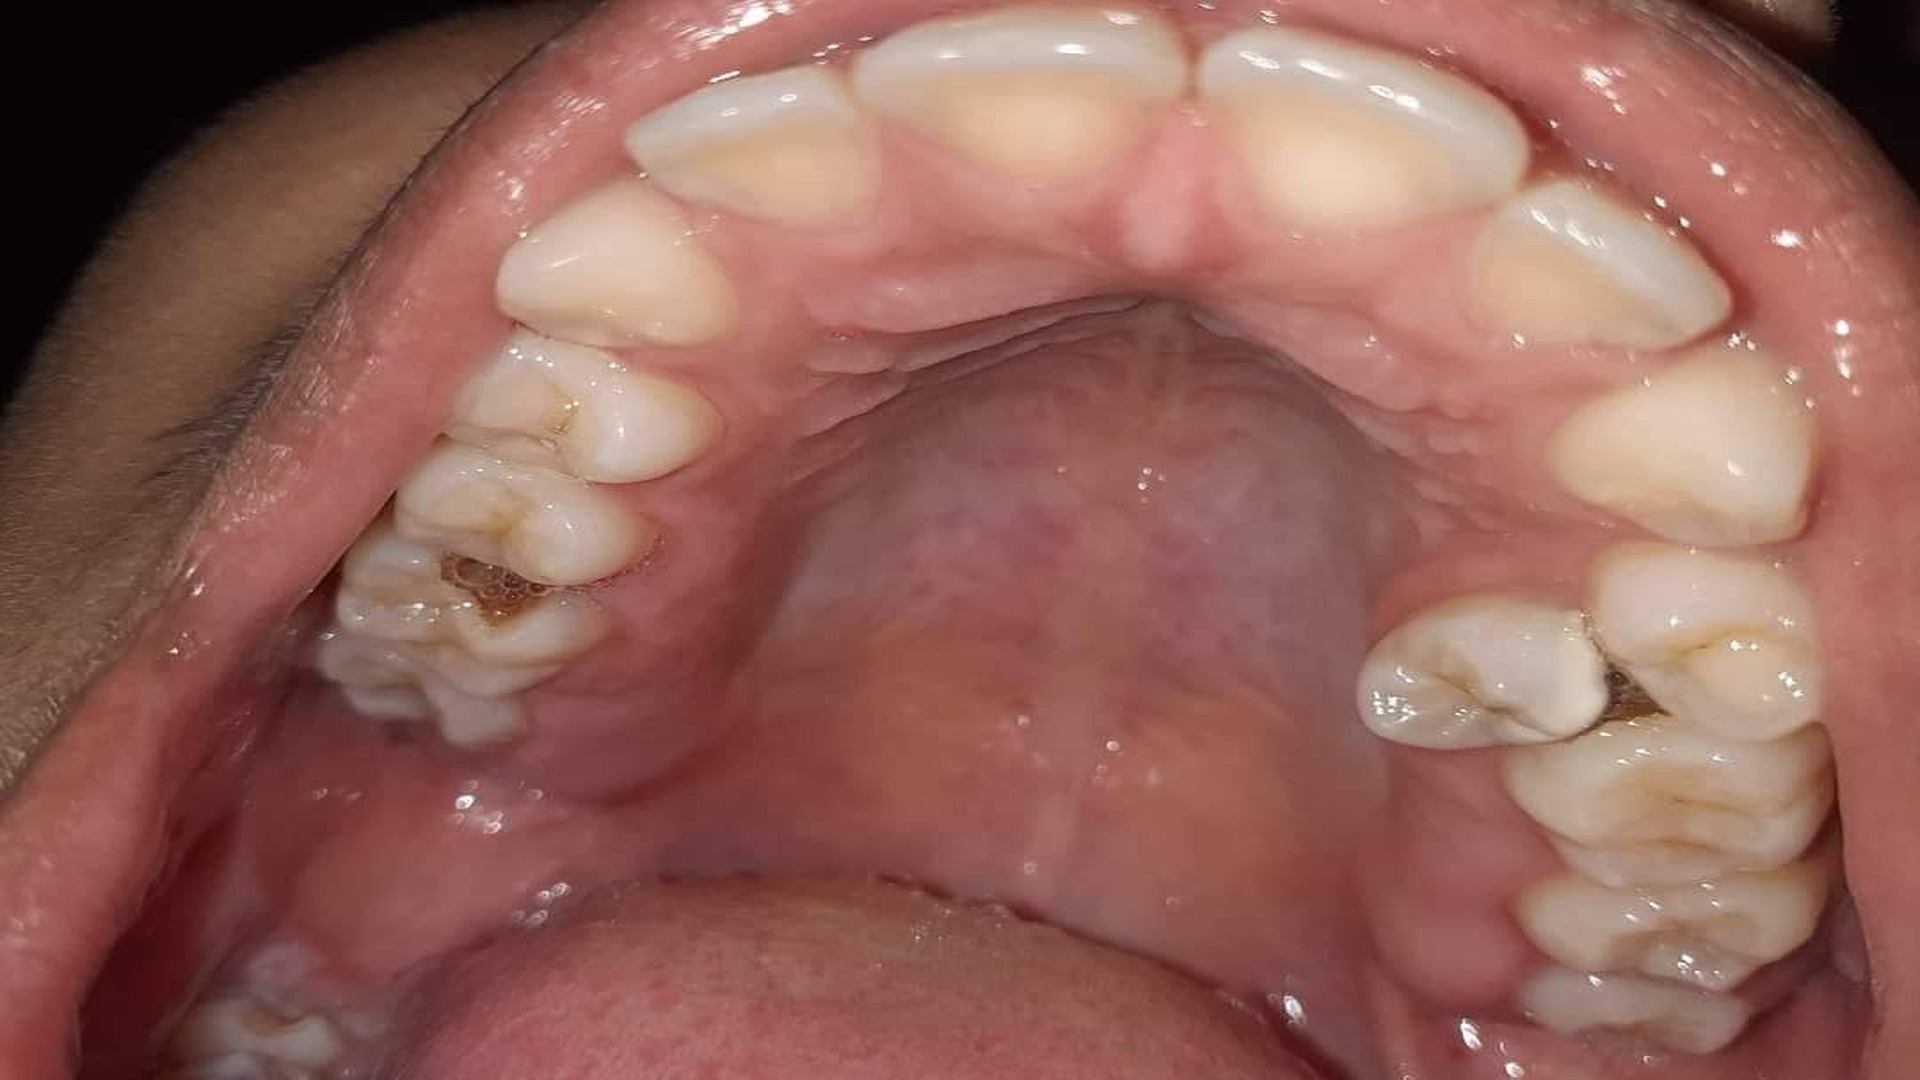tooth: (1196, 22, 1531, 236), (851, 3, 1189, 190), (1545, 332, 1820, 549), (1507, 723, 1836, 886), (1582, 541, 1824, 741), (622, 55, 882, 233), (1465, 185, 1738, 353), (442, 324, 725, 483), (338, 545, 611, 698), (1513, 860, 1829, 992), (495, 179, 738, 348), (393, 435, 658, 585), (1356, 593, 1609, 749), (1519, 967, 1755, 1055)
